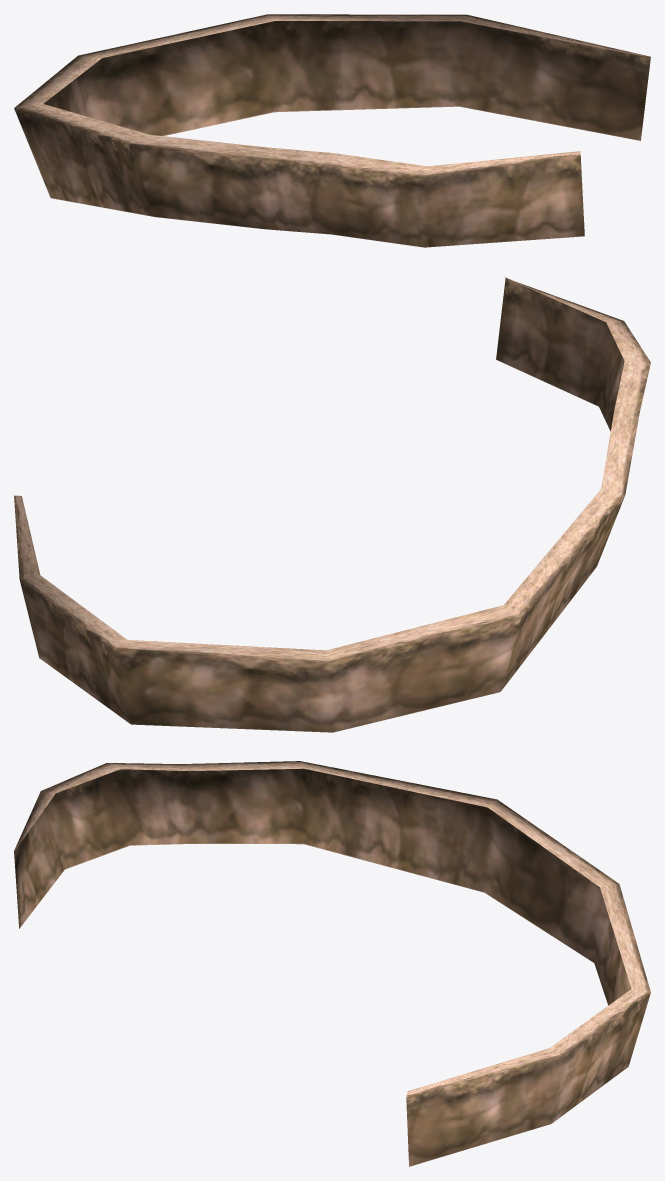
File: EKH_THRONE_PS_TH_LINE07.fbx
3 renders of one model, top to bottom at view 1: azimuth 30°, elevation 25°; view 2: azimuth 150°, elevation 25°; view 3: azimuth 270°, elevation 25°, orthographic. The views are drawn at different scales.
Parts seen in each view (by area): view 1: EKH_THRONE_PS_TH_LINE07; view 2: EKH_THRONE_PS_TH_LINE07; view 3: EKH_THRONE_PS_TH_LINE07.
Boxes of the visible parts, box(x1,y1,x2,y2) form: EKH_THRONE_PS_TH_LINE07: box(14, 14, 650, 247); EKH_THRONE_PS_TH_LINE07: box(14, 277, 650, 732); EKH_THRONE_PS_TH_LINE07: box(14, 761, 650, 1166).
Size of the model in its own units: 41534 by 15373 by 44564.
1 material, 1 textured.
